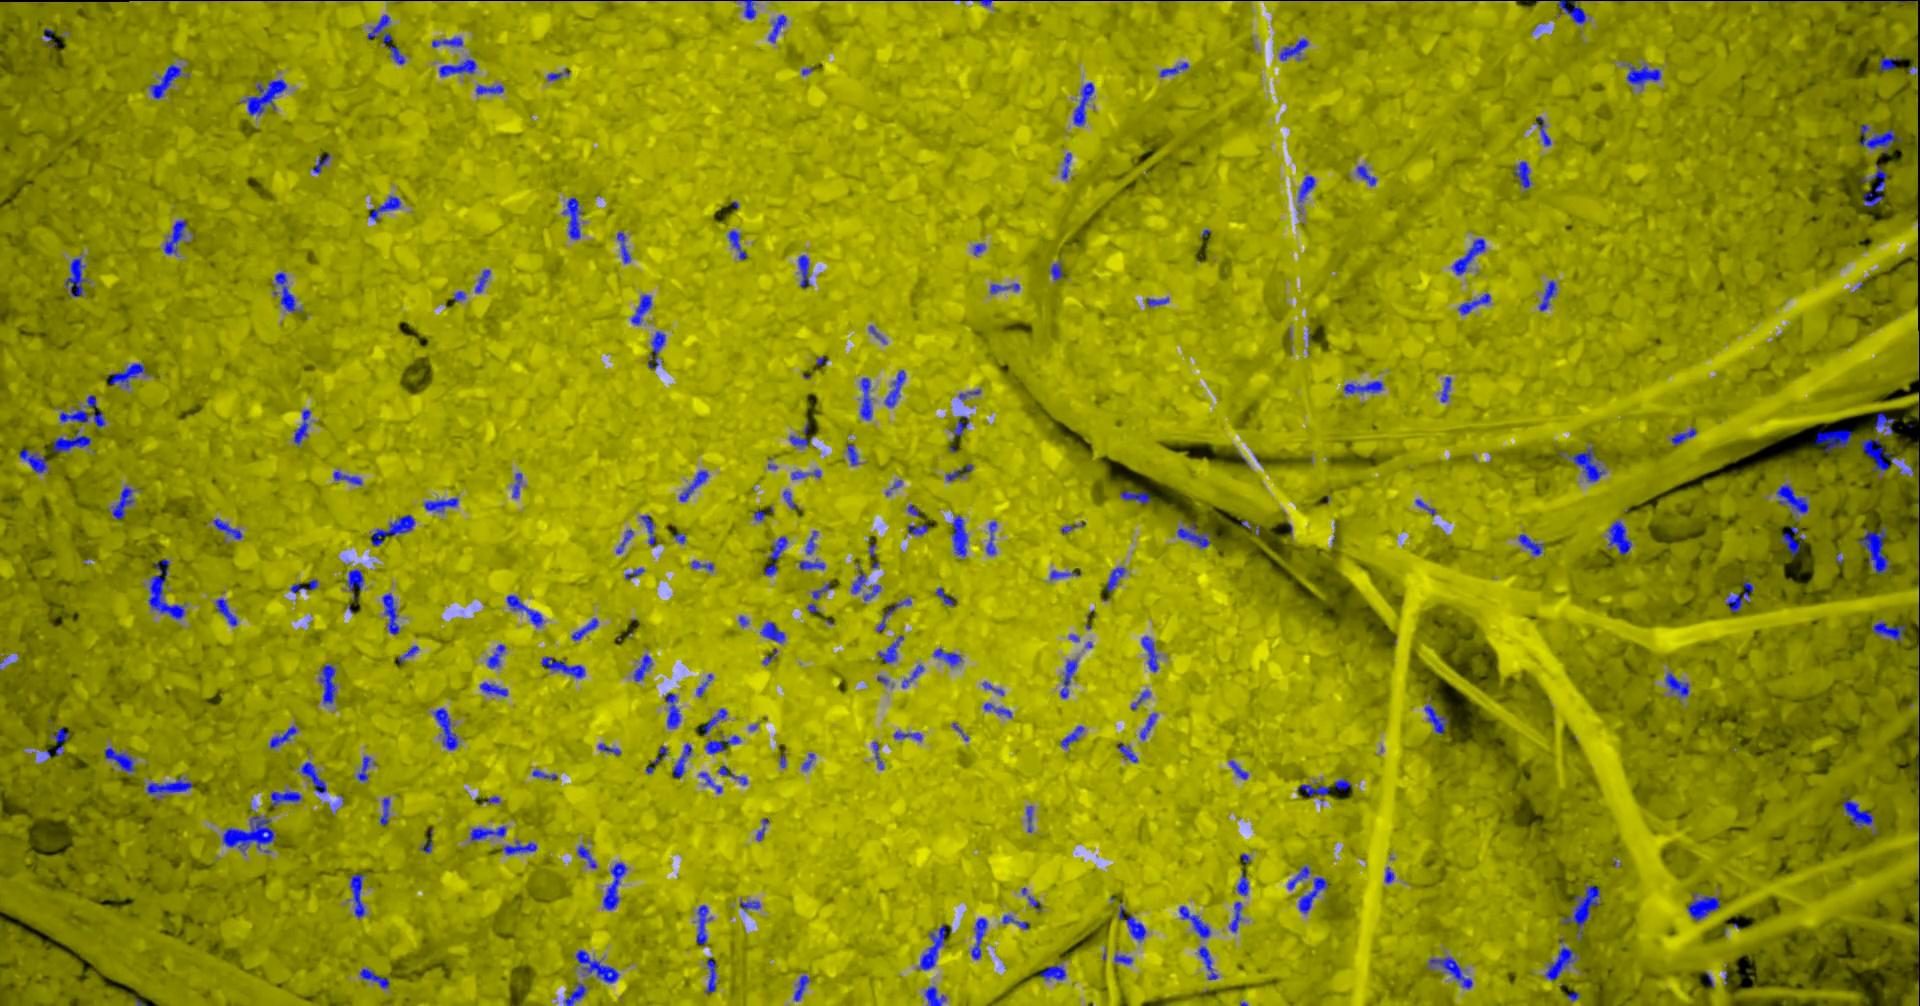ant: (147, 558, 184, 619), (222, 815, 276, 854), (1561, 885, 1599, 939), (367, 14, 404, 64), (241, 79, 286, 116), (1857, 527, 1890, 573), (58, 394, 104, 426), (575, 949, 618, 982), (1544, 937, 1576, 981), (1429, 956, 1472, 988), (370, 514, 414, 545), (1859, 436, 1895, 471), (1857, 124, 1901, 152), (875, 598, 910, 633), (919, 923, 946, 969), (1451, 238, 1484, 274), (1568, 448, 1605, 481), (505, 594, 543, 626), (1859, 163, 1886, 206), (273, 272, 302, 311), (602, 862, 626, 909), (149, 64, 182, 98), (1298, 876, 1328, 913), (432, 708, 458, 749), (1117, 904, 1145, 942), (1178, 904, 1210, 937), (1843, 794, 1873, 828), (105, 362, 145, 387), (146, 775, 192, 796), (1777, 484, 1808, 514), (63, 257, 88, 296), (763, 536, 787, 575), (541, 655, 584, 677), (678, 470, 709, 500), (1724, 578, 1752, 611), (1686, 892, 1719, 920), (1072, 83, 1093, 124), (1176, 522, 1210, 547), (300, 761, 326, 793), (110, 485, 135, 520), (52, 431, 90, 452), (1813, 429, 1851, 451), (163, 218, 185, 254), (697, 708, 728, 734), (1779, 526, 1804, 558), (103, 747, 135, 772), (563, 197, 582, 239), (884, 370, 905, 406), (703, 732, 740, 753), (1625, 64, 1660, 86), (1608, 520, 1630, 554), (368, 196, 400, 220), (18, 448, 48, 473), (877, 635, 903, 663), (1423, 704, 1448, 733), (951, 514, 968, 556), (382, 592, 399, 634), (438, 58, 476, 76), (672, 742, 691, 777), (349, 873, 364, 917), (1457, 293, 1490, 314), (630, 293, 651, 324), (648, 332, 665, 368), (1197, 945, 1217, 979), (319, 663, 335, 702), (695, 904, 711, 944), (1557, 0, 1585, 23), (215, 598, 237, 626), (269, 725, 297, 748), (971, 917, 987, 959), (1279, 38, 1308, 60), (1872, 621, 1905, 640), (1665, 671, 1688, 697), (645, 746, 667, 774), (1060, 659, 1076, 699), (213, 518, 243, 539), (717, 765, 747, 785), (359, 968, 389, 988), (293, 409, 310, 445), (1297, 782, 1330, 800), (858, 377, 872, 419), (1106, 567, 1125, 597), (1142, 636, 1158, 671), (664, 694, 681, 728), (345, 568, 363, 600), (1517, 533, 1543, 555), (571, 619, 597, 640), (759, 621, 785, 643), (1538, 279, 1556, 310), (767, 14, 786, 42), (632, 653, 651, 681), (1286, 866, 1309, 889), (563, 982, 585, 1005), (728, 230, 745, 259), (932, 648, 961, 666), (469, 826, 505, 840), (1297, 175, 1316, 202), (789, 420, 808, 447), (270, 790, 301, 807), (1139, 713, 1157, 741), (51, 727, 69, 754), (902, 664, 923, 687), (1060, 725, 1083, 747), (698, 772, 723, 793), (1343, 380, 1382, 392), (423, 497, 457, 511), (502, 840, 536, 854), (1512, 161, 1530, 188), (1670, 427, 1697, 445), (945, 464, 971, 481), (357, 754, 375, 781), (1535, 116, 1550, 146), (1874, 412, 1895, 434), (640, 514, 655, 545), (616, 231, 630, 263), (792, 974, 809, 1001), (577, 845, 596, 868), (615, 528, 632, 553), (488, 644, 505, 668), (695, 673, 712, 697), (1119, 489, 1149, 503), (1356, 165, 1377, 185), (1159, 62, 1189, 76), (850, 567, 865, 593), (1039, 964, 1065, 979), (479, 682, 507, 696), (983, 702, 1011, 716), (1130, 690, 1150, 709), (1117, 742, 1137, 762), (924, 986, 945, 1005), (474, 269, 490, 292), (1002, 915, 1029, 929), (331, 471, 361, 484), (430, 36, 462, 47), (797, 254, 809, 286), (1228, 760, 1247, 779), (1229, 901, 1241, 932), (397, 645, 418, 663), (290, 579, 317, 592), (737, 0, 756, 18), (811, 582, 830, 600), (935, 587, 954, 605), (985, 521, 996, 554), (705, 959, 715, 992), (952, 415, 968, 437), (1415, 499, 1436, 514), (312, 152, 329, 171), (1878, 56, 1898, 71), (1236, 871, 1248, 895), (1049, 569, 1078, 579), (378, 796, 389, 826), (1440, 376, 1451, 401), (420, 828, 432, 854), (475, 84, 503, 94), (990, 283, 1018, 293), (893, 730, 921, 741), (872, 741, 883, 768), (510, 473, 522, 497), (756, 818, 768, 840), (782, 490, 796, 509), (805, 530, 817, 553), (597, 743, 620, 754), (623, 567, 644, 579), (863, 584, 880, 600), (547, 69, 569, 80), (846, 443, 857, 465), (532, 768, 556, 779), (1062, 152, 1070, 179), (43, 28, 56, 46), (1050, 262, 1063, 279), (799, 560, 824, 569), (801, 752, 814, 770), (691, 560, 712, 570), (907, 523, 927, 533), (1145, 297, 1168, 306), (1112, 954, 1131, 964), (739, 901, 759, 909), (1335, 779, 1350, 790), (1026, 805, 1032, 832), (1868, 0, 1915, 3)
